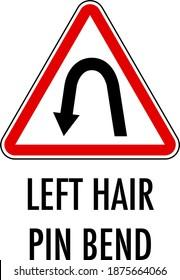Left Hair Pin Bend: (0, 0, 180, 168)
